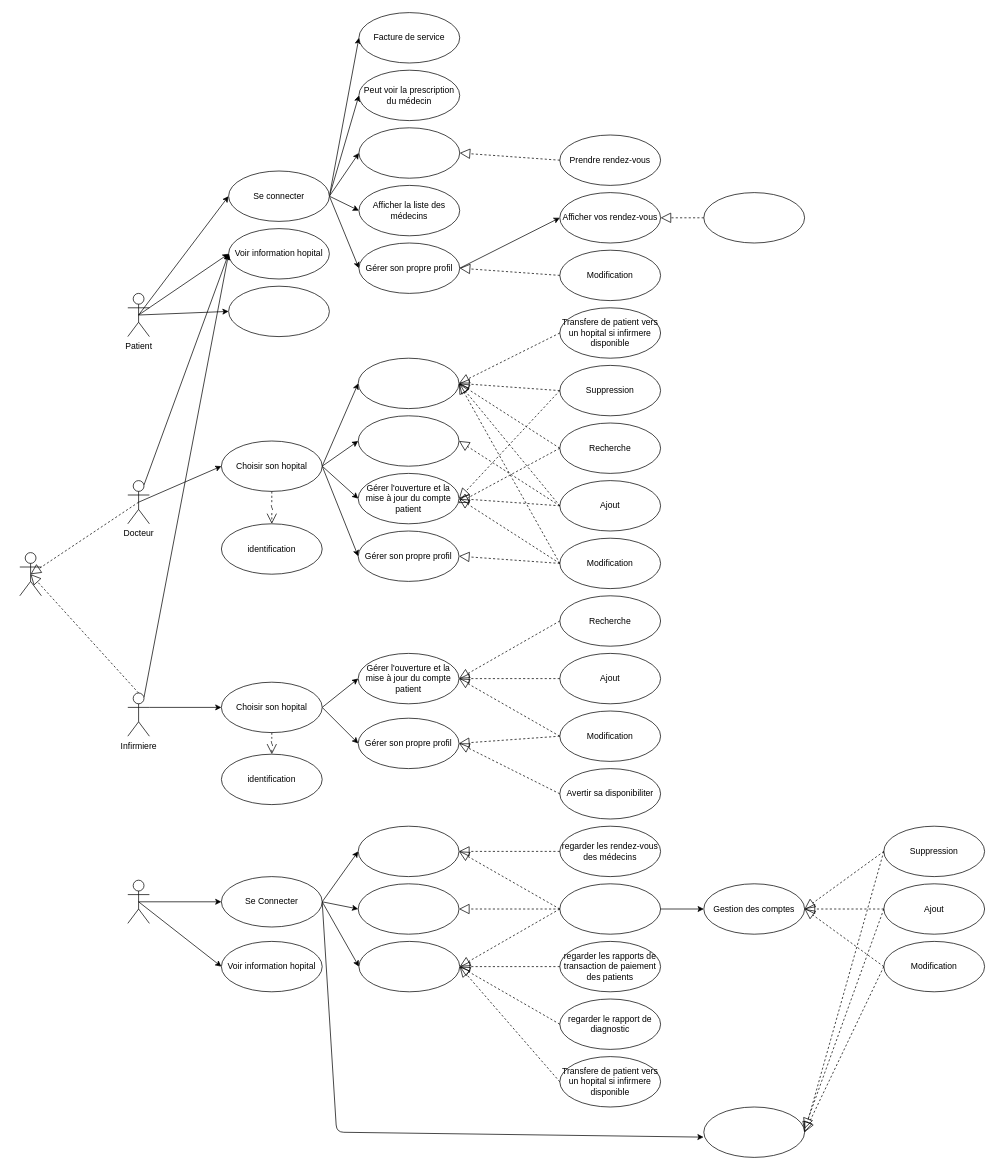
This 997x1170 diagram has some shape labels left out. Here are the shapes that lost their labels. From the top down, the centre of each, then its label:
[409,152]: Afficher la liste des rendez-vous et le statut avec les médecins
[754,217]: Supprimer des rendez-vous
[278,311]: S'inscrire
[408,383]: Créer, gérer un rendez-vous avec le patient
[408,440]: ajouter une ordonnance
[30,574]: Employer
[408,851]: Afficher les medecin
[138,901]: Admin
[408,908]: Afficher les infirmières
[610,908]: Recherche par hopital / Nom / NoEmployer
[409,966]: Afficher les patients
[754,1131]: gérer le service des hôpitaux
